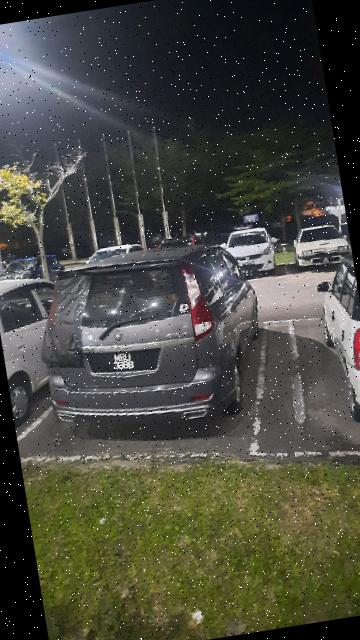License_Plate: (82, 338, 167, 384)
car: (30, 232, 284, 444)
